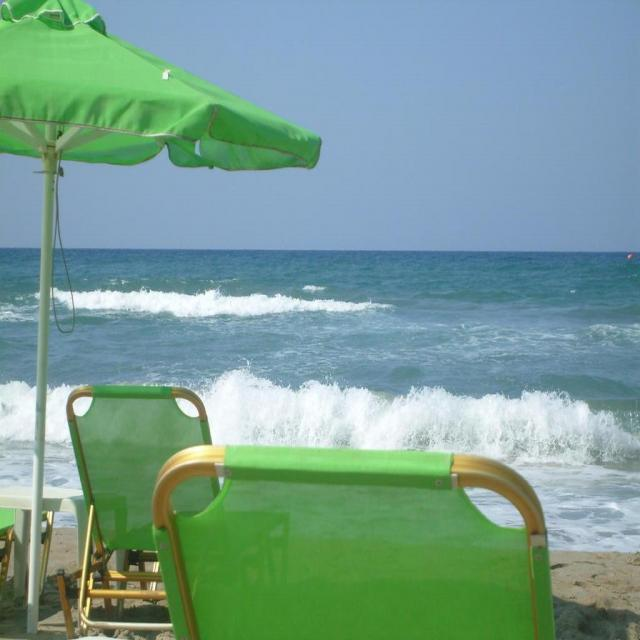Table: (0, 480, 88, 598)
